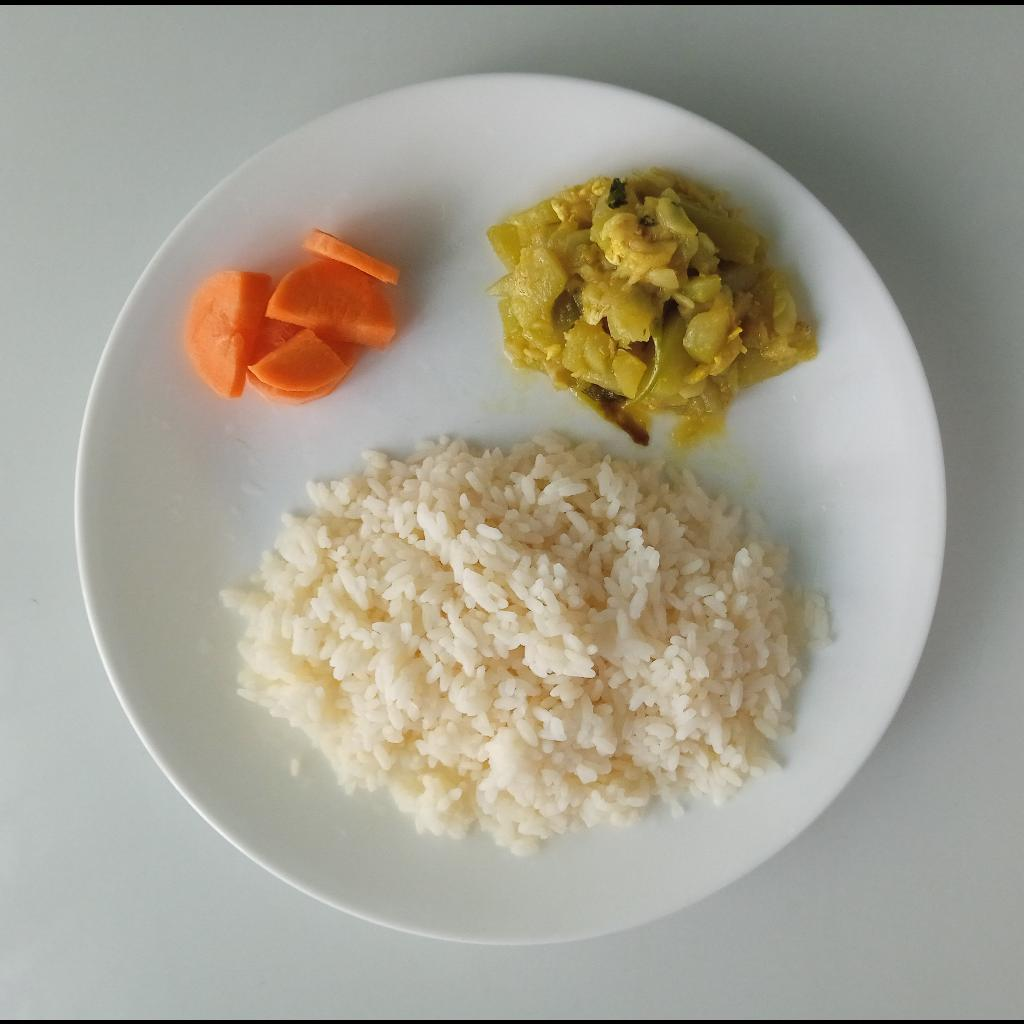carrot: (185, 227, 401, 406)
lau: (484, 163, 817, 449)
rice: (219, 427, 828, 855)
